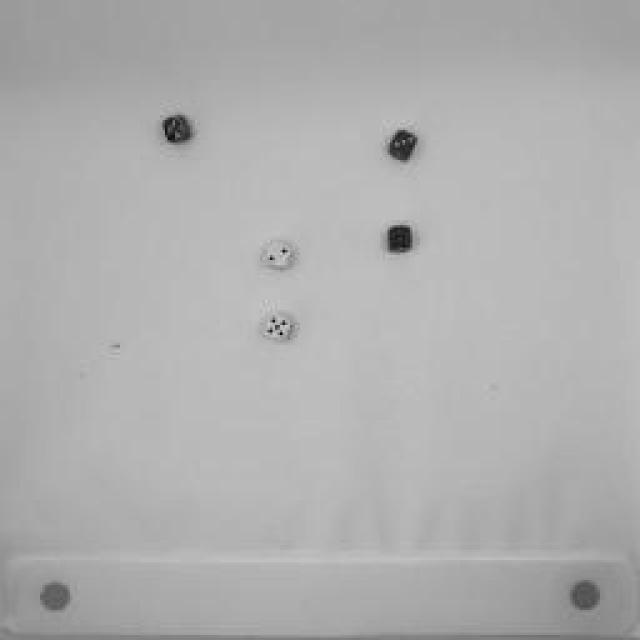dice_2: (261, 237, 299, 275)
dice_3: (386, 126, 419, 164), (384, 222, 411, 262)
dice_5: (160, 114, 195, 151), (263, 315, 295, 340)
